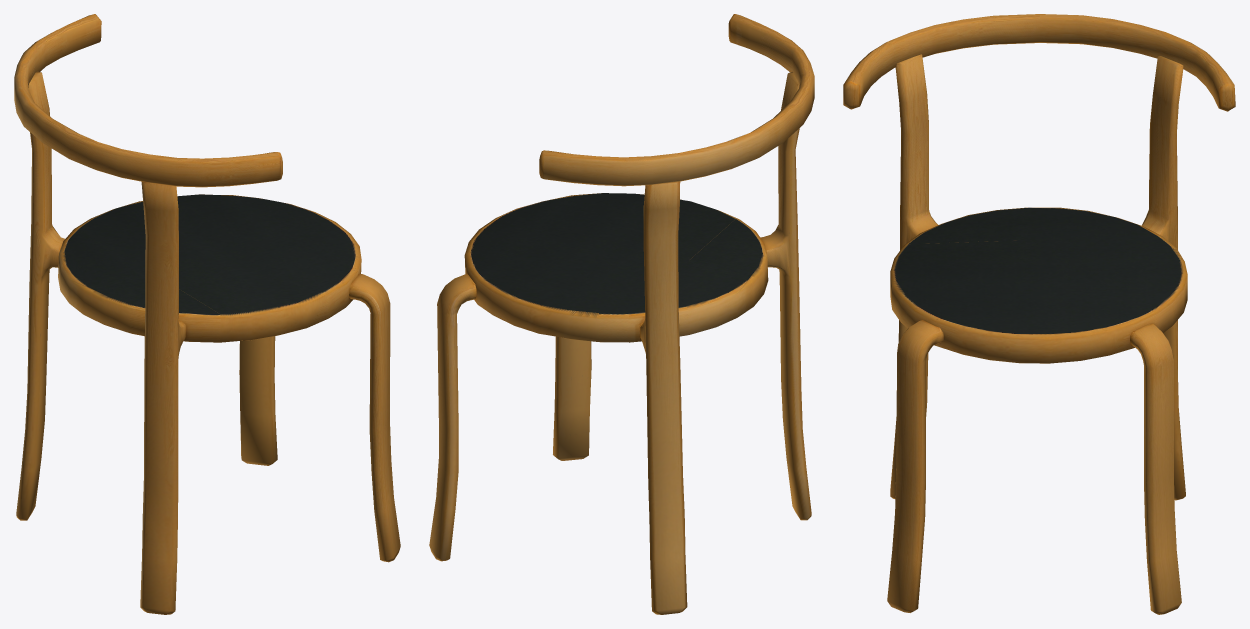
The model's file is wooden_v5.glb.
3 renders of one model, left to right at view 1: azimuth 30°, elevation 25°; view 2: azimuth 150°, elevation 25°; view 3: azimuth 270°, elevation 25°, orthographic.
Visible parts, largest first — view 1: tripo_node_6d8598a5-d57a-40ee-b2a9-2c6522a1cfc6; view 2: tripo_node_6d8598a5-d57a-40ee-b2a9-2c6522a1cfc6; view 3: tripo_node_6d8598a5-d57a-40ee-b2a9-2c6522a1cfc6.
Part boxes in pixels (x1,y1,x2,y2): tripo_node_6d8598a5-d57a-40ee-b2a9-2c6522a1cfc6: (14,14,400,614); tripo_node_6d8598a5-d57a-40ee-b2a9-2c6522a1cfc6: (429,14,814,614); tripo_node_6d8598a5-d57a-40ee-b2a9-2c6522a1cfc6: (843,14,1235,614).
Bounding box in the file's own units: 0.6777 × 0.998 × 0.7676.
Materials: 1 (1 with a texture image).
